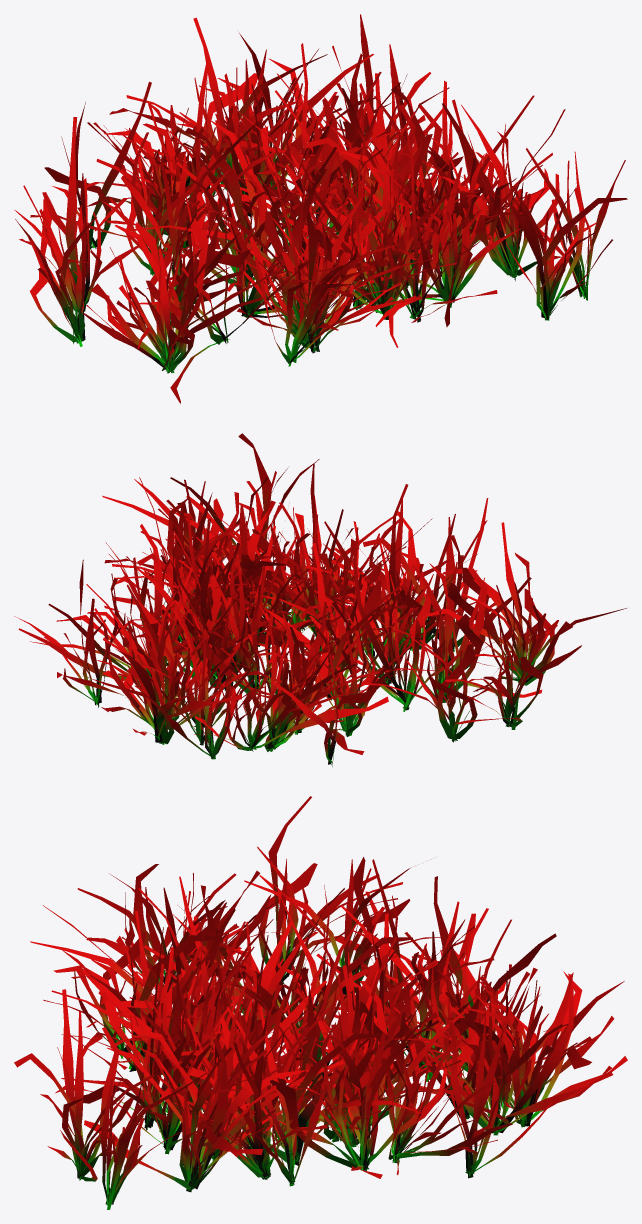
Rendered from Grass_03_Var1_LOD0.FBX.
3 renders of one model, top to bottom at view 1: azimuth 30°, elevation 25°; view 2: azimuth 150°, elevation 25°; view 3: azimuth 270°, elevation 25°, orthographic. The views are drawn at different scales.
Parts seen in each view (by area): view 1: Grass_03_Var1_LOD0_LOD0; view 2: Grass_03_Var1_LOD0_LOD0; view 3: Grass_03_Var1_LOD0_LOD0.
Boxes of the visible parts, <box> form: Grass_03_Var1_LOD0_LOD0: <box>14,14,627,403</box>; Grass_03_Var1_LOD0_LOD0: <box>14,433,626,766</box>; Grass_03_Var1_LOD0_LOD0: <box>14,796,627,1209</box>.
Size of what is drawn, in the model's own units: 67.57 by 64.3 by 25.46.
